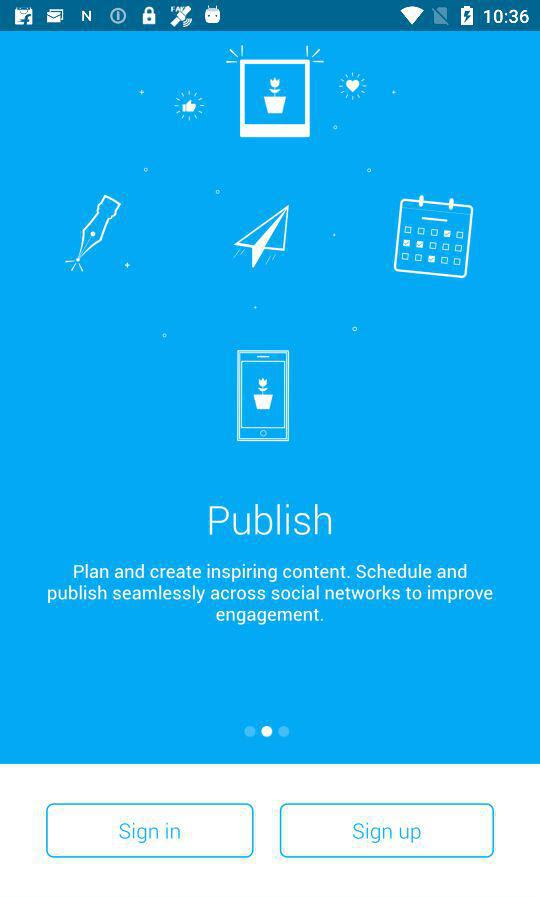Image: (64, 43, 476, 440)
PageIndicator: (243, 724, 291, 739)
Text: (47, 563, 494, 628), (209, 503, 333, 538)
TextButton: (280, 802, 495, 859), (46, 803, 255, 859)
UpperTaskBar: (1, 1, 540, 33)
